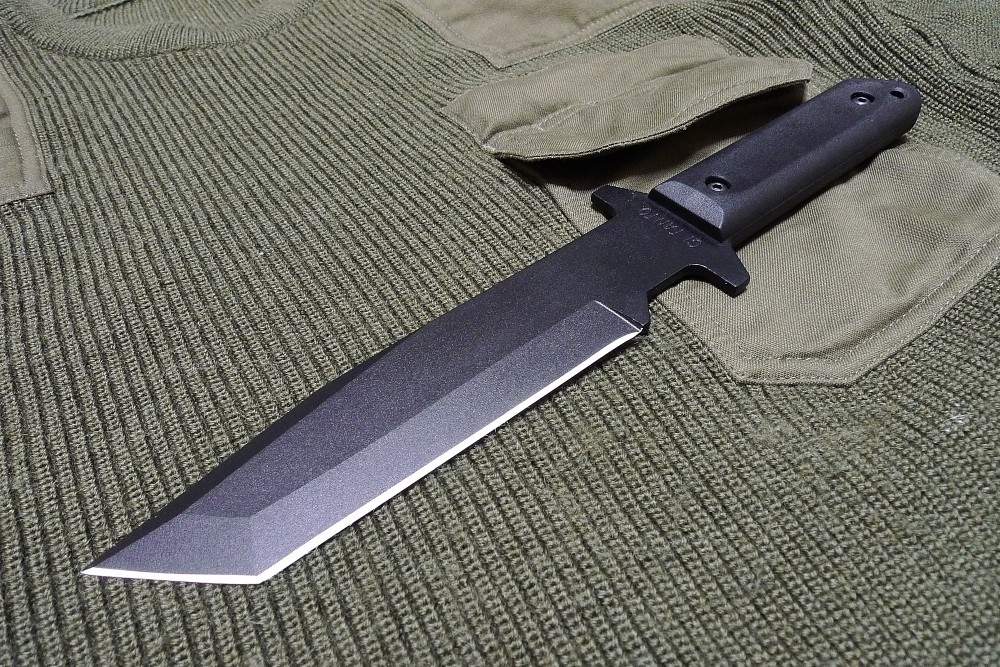knife: (74, 73, 926, 597)
